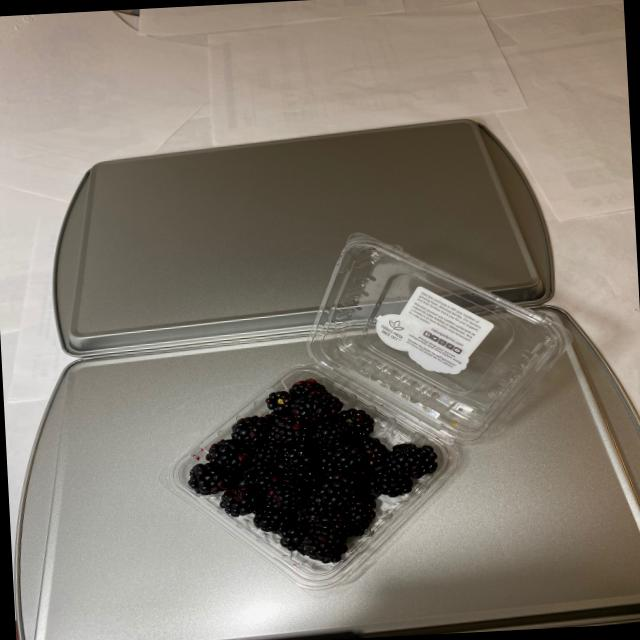blackberries: (175, 342, 486, 576)
